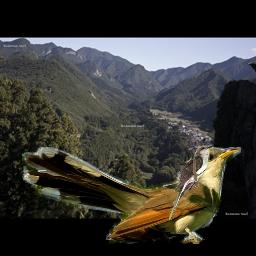Cuckoo: (22, 147, 241, 244), (169, 145, 214, 221)
